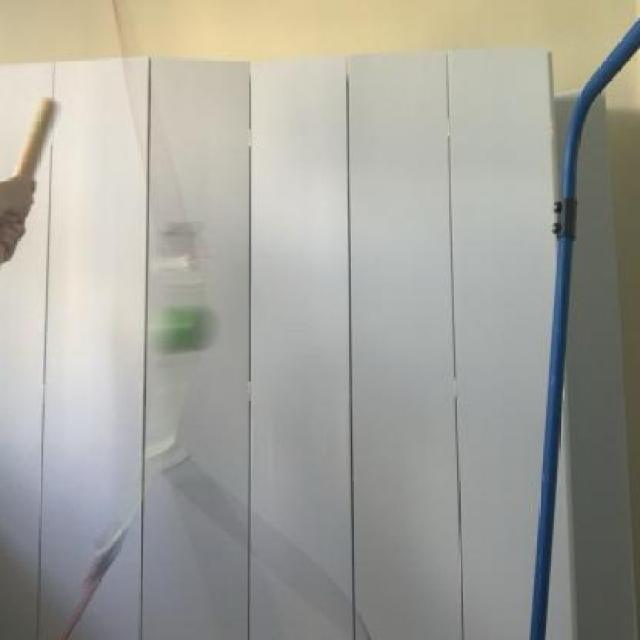baseball: (146, 288, 217, 359)
